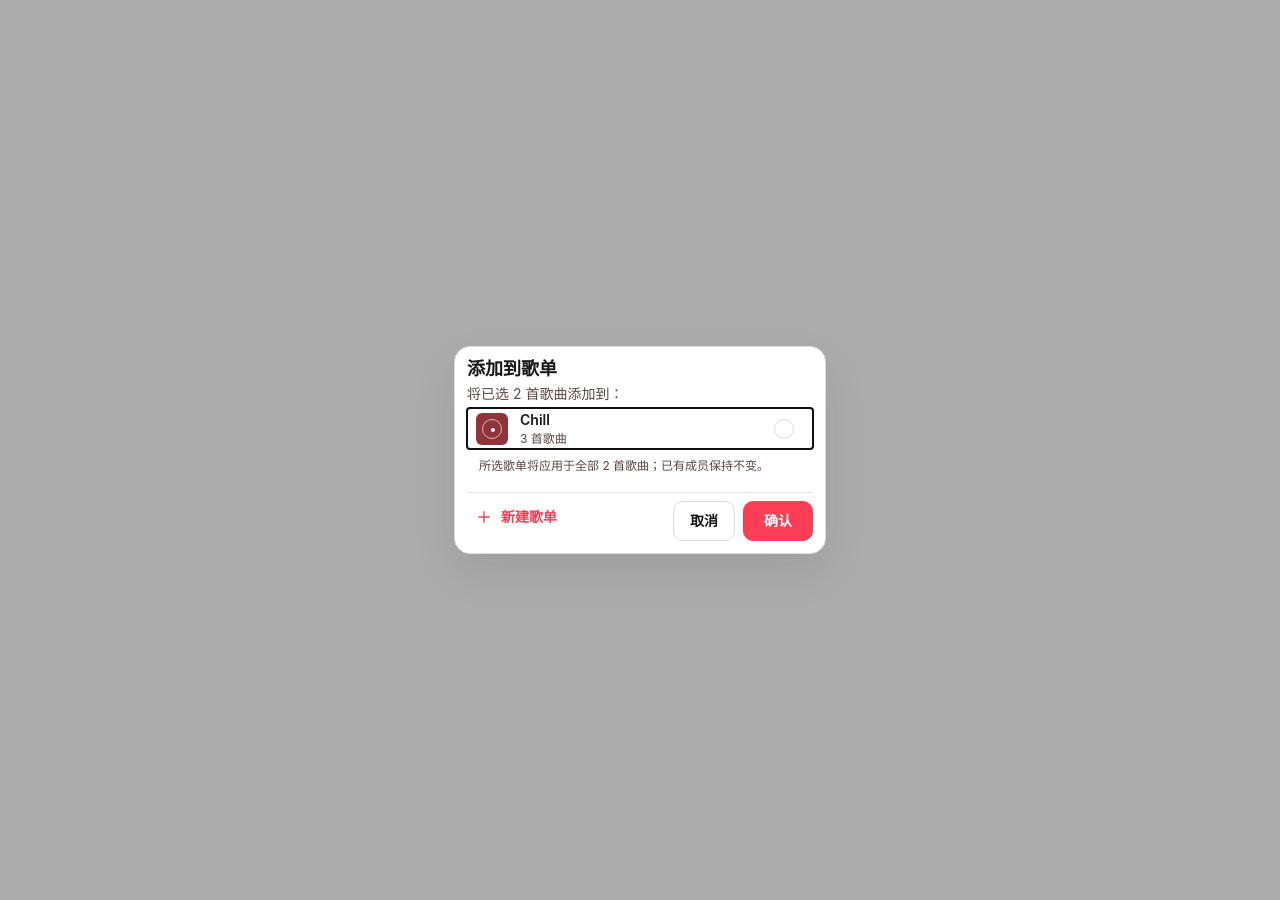
AddToPlaylistDialog (task 10.9) › runs a multi-song add sequentially and keeps partial failures visible
The width and height of the screenshot is (1280, 900).
Check: the text "所选歌单将应用于全部 2 首歌曲；已有成员保持不变。" is shown, box [479,458,769,474]
Click the option labelled "Chill 3 首歌曲" at (492, 429), box [467,408,803,450]
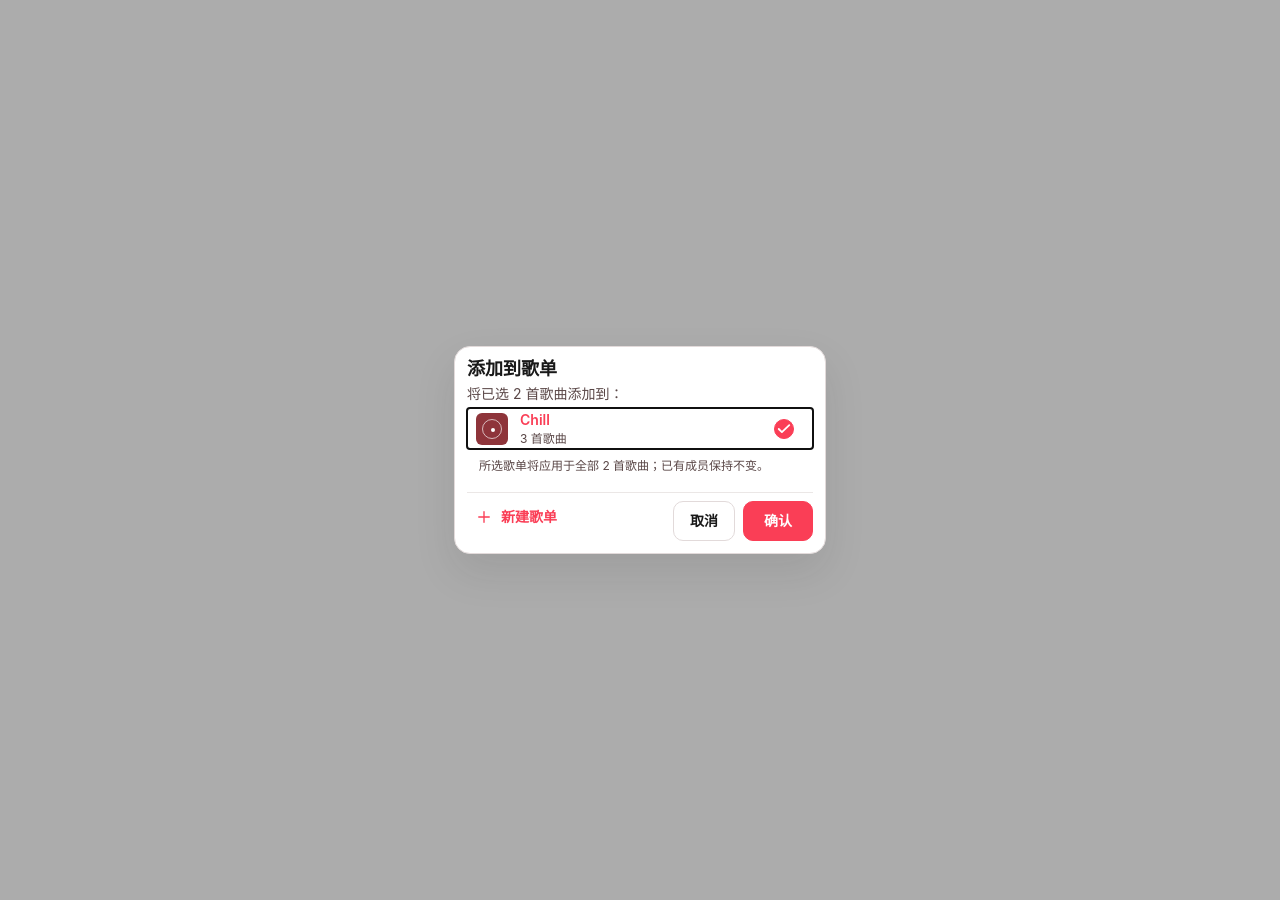
Click the button "确认" at (778, 521), box [743,501,813,541]
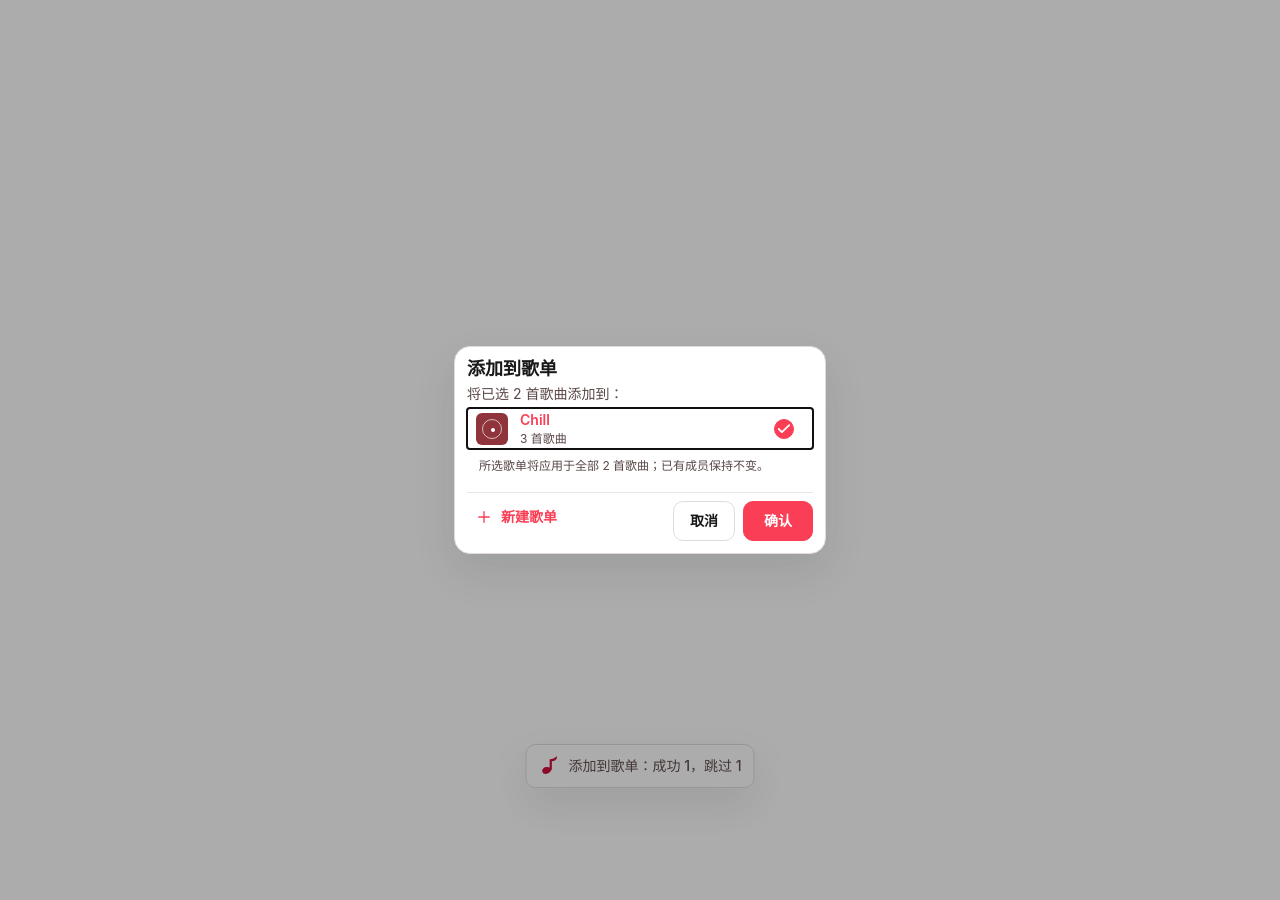
Check: the text "添加到歌单：成功 1，跳过 1" is shown, box [568,755,742,777]
